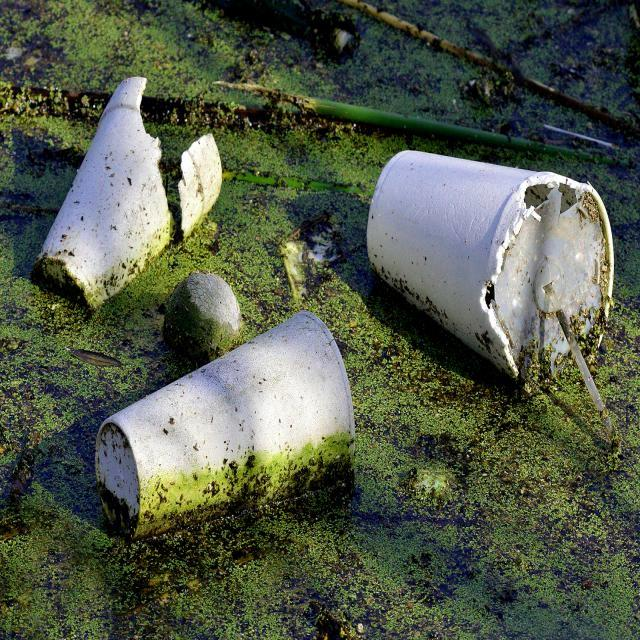Plastic: (362, 143, 612, 413), (90, 309, 357, 542), (31, 78, 171, 320)
Trash: (176, 130, 223, 239)
